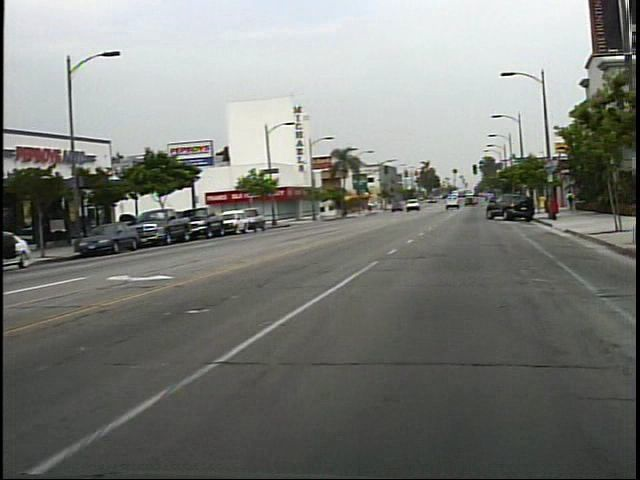person: (572, 188, 584, 214)
